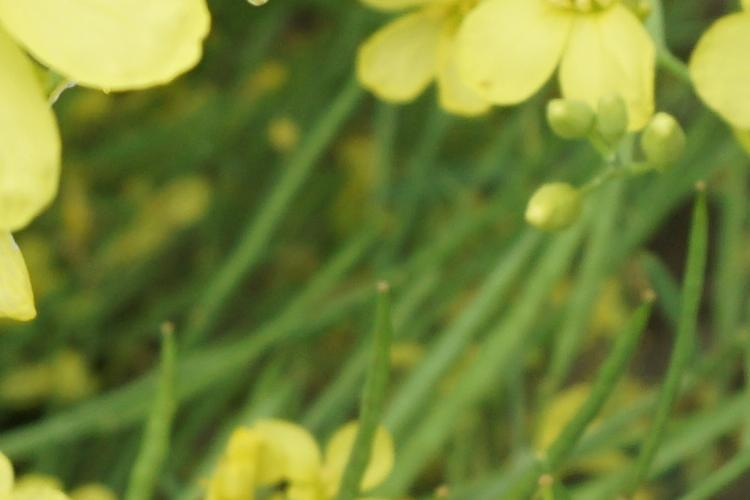bud: (512, 171, 593, 239), (536, 92, 601, 154), (649, 106, 700, 182), (586, 92, 636, 141)
yellow: (402, 8, 670, 112)
